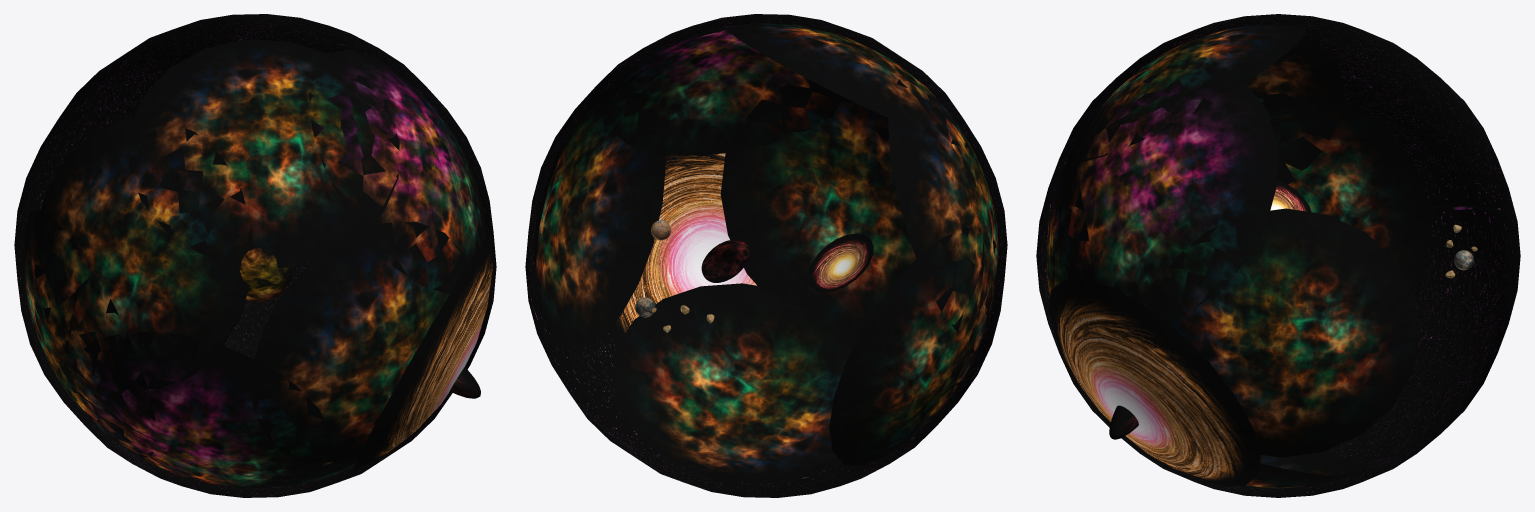
File: demo.gltf
The picture shows the model from 3 angles, left to right: view 1: azimuth 30°, elevation 25°; view 2: azimuth 150°, elevation 25°; view 3: azimuth 270°, elevation 25°; orthographic projection.
Visible parts, largest first — view 1: Nebula_Large 1, Nebula_Large, Nebula_Large 4, Skybox_A, Nebula_Large 3, Nebula_Large 5, Galaxy_Large, Nebula_Large 2, Sphere 10 (×2), Nebula_Large 7; view 2: Nebula_Large 7, Nebula_Large 4, Nebula_Large 6, Nebula_Large 2, Skybox_A, Nebula_Large 5, Nebula_Large, Galaxy_Large, Nebula_Large 1, Galaxy_Small, Sphere 10; view 3: Skybox_A, Nebula_Large 6, Nebula_Large 5, Galaxy_Large, Nebula_Large 2, Nebula_Large 1, Nebula_Large, Nebula_Large 4, Nebula_Large 7, Galaxy_Small, Sphere 10.
Boxes of the visible parts, box(x1,y1,x2,y2) form: Nebula_Large 1: box(128, 39, 399, 267); Nebula_Large: box(34, 118, 252, 388); Nebula_Large 4: box(251, 222, 465, 462); Skybox_A: box(14, 14, 496, 497); Nebula_Large 3: box(71, 331, 330, 488); Nebula_Large 5: box(309, 49, 486, 293); Galaxy_Large: box(352, 232, 492, 471); Nebula_Large 2: box(23, 210, 156, 457); Sphere 10 (×2): box(239, 248, 480, 398); Nebula_Large 7: box(212, 449, 361, 488); Nebula_Large 7: box(611, 283, 858, 483); Nebula_Large 4: box(720, 79, 916, 336); Nebula_Large 6: box(533, 83, 665, 348); Nebula_Large 2: box(829, 227, 998, 465); Skybox_A: box(525, 14, 1007, 497); Nebula_Large 5: box(600, 23, 851, 155); Nebula_Large: box(888, 76, 998, 339); Galaxy_Large: box(608, 153, 756, 344); Nebula_Large 1: box(726, 23, 970, 147); Galaxy_Small: box(808, 233, 873, 292); Sphere 10: box(701, 239, 749, 282); Skybox_A: box(1036, 14, 1520, 497); Nebula_Large 6: box(1151, 208, 1420, 457); Nebula_Large 5: box(1058, 66, 1277, 319); Galaxy_Large: box(1048, 279, 1260, 486); Nebula_Large 2: box(1261, 93, 1431, 292); Nebula_Large 1: box(1069, 24, 1306, 162); Nebula_Large: box(1245, 36, 1344, 184); Nebula_Large 4: box(1046, 152, 1094, 297); Nebula_Large 7: box(1245, 450, 1358, 488); Galaxy_Small: box(1270, 180, 1311, 212); Sphere 10: box(1109, 405, 1138, 439).
Bounding box in the file's own units: 150 × 150 × 150.
